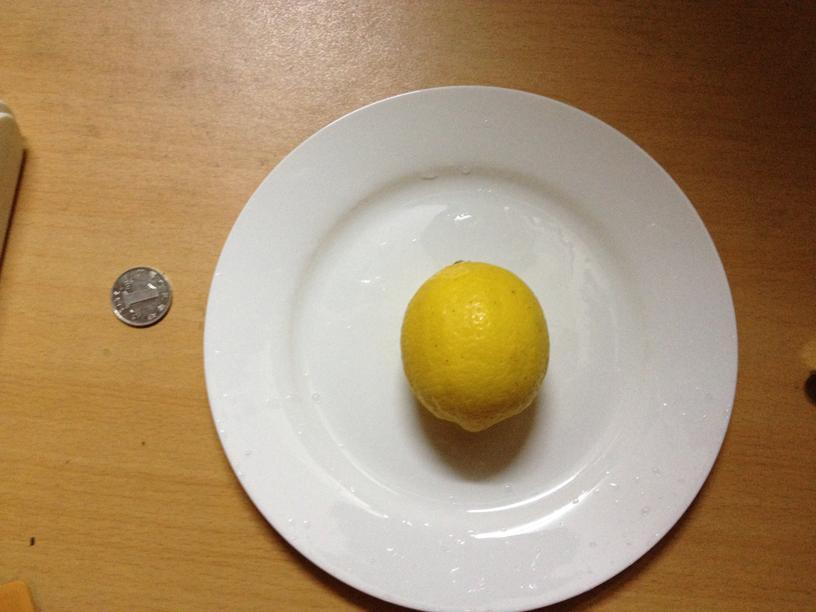coin: (108, 267, 171, 327)
lemon: (401, 258, 546, 432)
